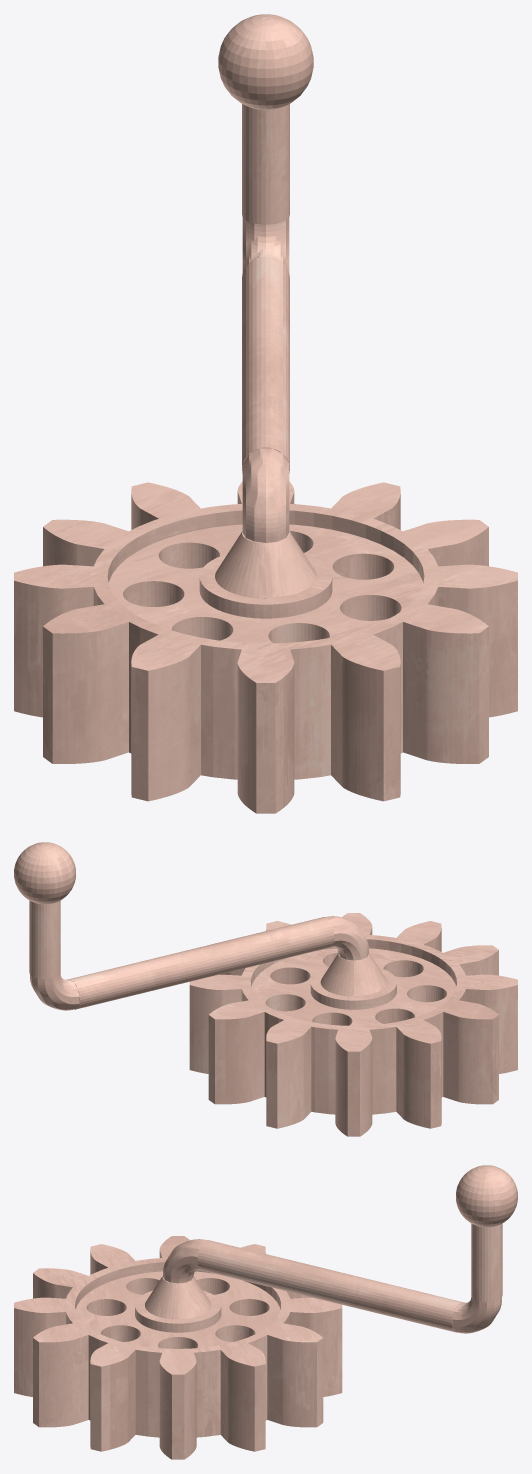
The model's file is sun_gear_handle.glb.
3 renders of one model, top to bottom at view 1: azimuth 30°, elevation 25°; view 2: azimuth 150°, elevation 25°; view 3: azimuth 270°, elevation 25°, orthographic. The views are drawn at different scales.
Parts seen in each view (by area): view 1: OpenSCAD_Model; view 2: OpenSCAD_Model; view 3: OpenSCAD_Model.
Boxes of the visible parts, left/top/right/bottom form: OpenSCAD_Model: left=14, top=14, right=517, bottom=813; OpenSCAD_Model: left=14, top=842, right=517, bottom=1136; OpenSCAD_Model: left=14, top=1165, right=517, bottom=1459.
Size of the model in its own units: 47.76 by 41.98 by 64.45.
1 material, 1 textured.
